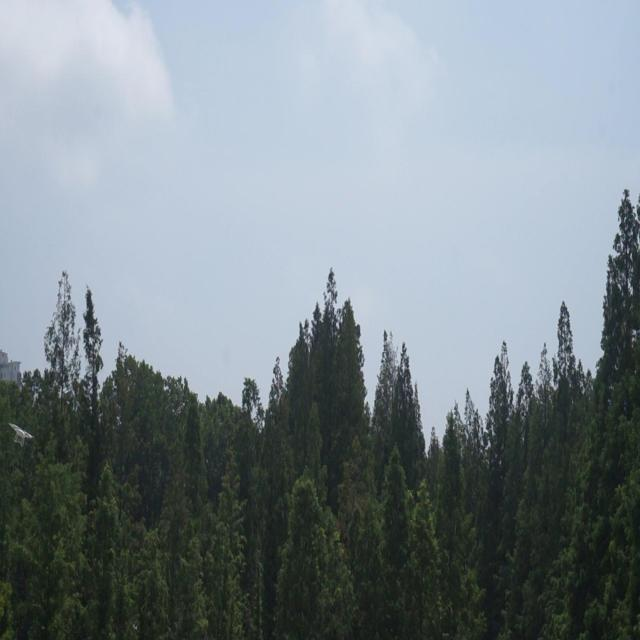drone: (8, 420, 32, 450)
